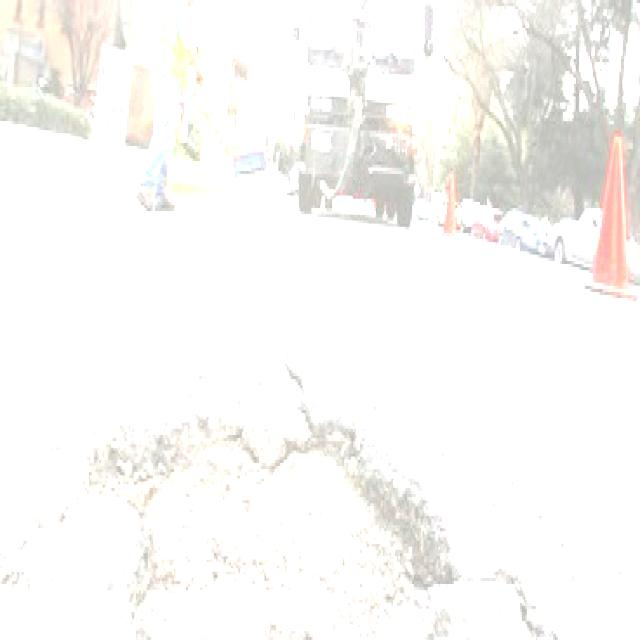Pothole: (75, 296, 532, 640)
